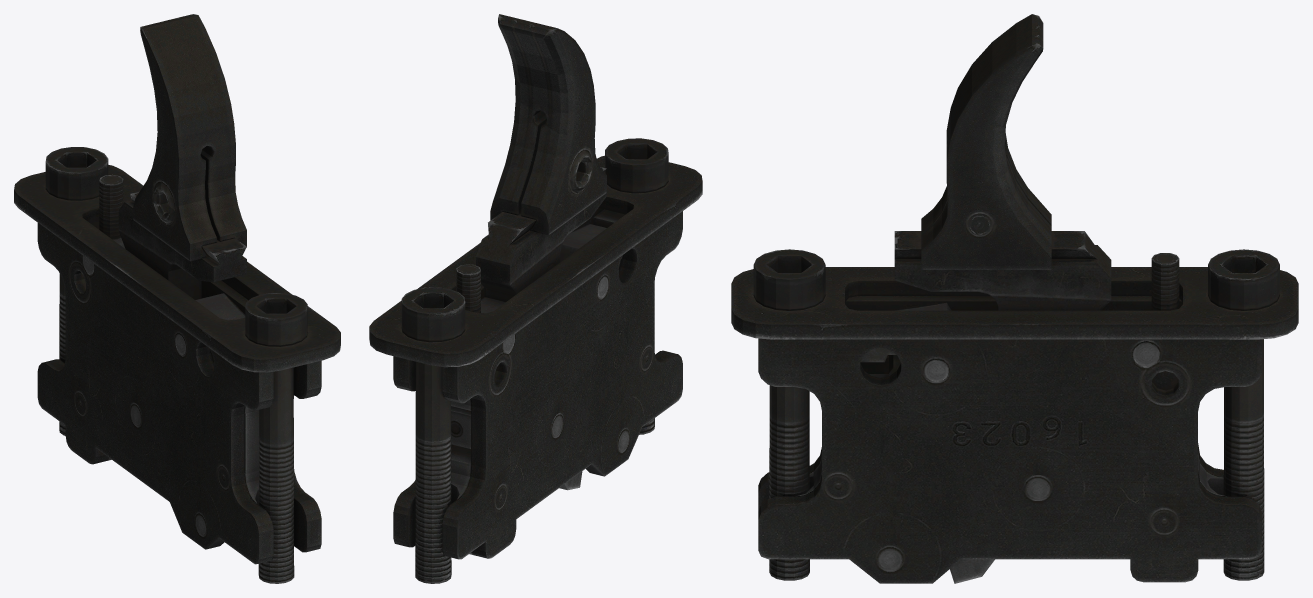
The picture shows the model from 3 angles, left to right: view 1: azimuth 30°, elevation 25°; view 2: azimuth 150°, elevation 25°; view 3: azimuth 270°, elevation 25°; orthographic projection. The views are drawn at different scales.
Visible parts, largest first — view 1: TW_627e14b21713922ded6f2c15_PZ_Import; view 2: TW_627e14b21713922ded6f2c15_PZ_Import; view 3: TW_627e14b21713922ded6f2c15_PZ_Import.
Part boxes in pixels (x1=…): TW_627e14b21713922ded6f2c15_PZ_Import: x1=14, y1=14, x2=340, y2=583; TW_627e14b21713922ded6f2c15_PZ_Import: x1=369, y1=14, x2=702, y2=583; TW_627e14b21713922ded6f2c15_PZ_Import: x1=731, y1=14, x2=1298, y2=583.
Size of the model in its own units: 0.00928 by 0.0386 by 0.0409.
Materials: 1 (1 with a texture image).
